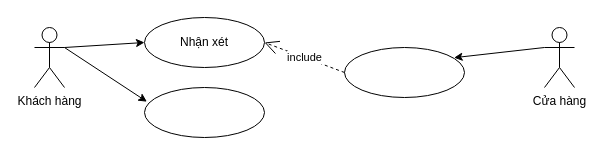
This 603x155 diagram has some shape labels left out. The shapes that lost their labels are listed below. From the top down, each one's box as (x1, y1, x2, y2) in pixels, then its label:
(344, 46, 464, 98): Giải đáp thắc mắc
(144, 86, 264, 138): Đánh giá
